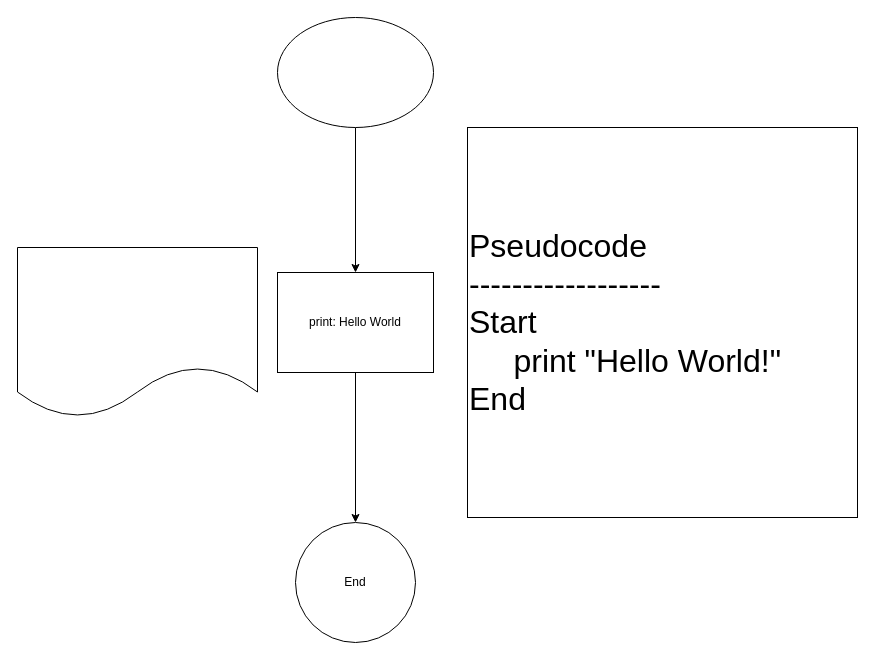
Image size: 875x660. Some labels were removed from this diagram. The shapes that lost their labels are listed below. From the top down, each one's box as (x1, y1, x2, y2) in pixels, then its label:
(276, 16, 434, 128): Start
(16, 246, 258, 418): this process shall be written in Python!
